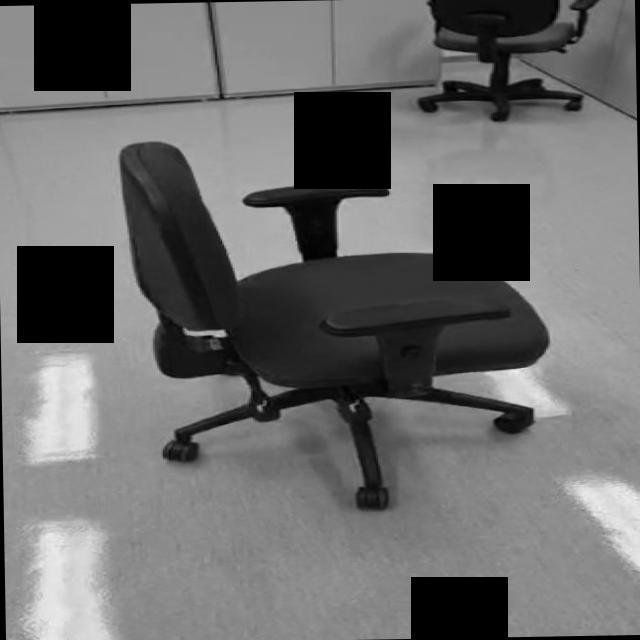chair: (120, 133, 550, 514)
